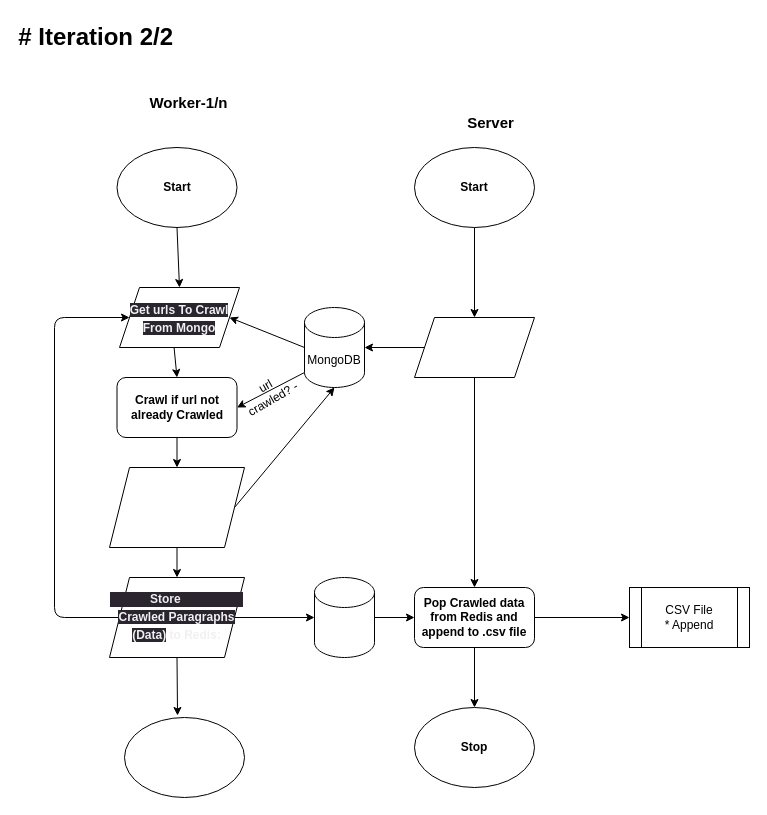
Image size: 767x815. Some labels were removed from this diagram. The centre of each missing label's shape, as x and y in pixels:
Redis: [344,617]
Stop if mongo returns no more urls to crawl: [184,757]
Store Seed urls To Crawl in mongo: [474,347]
Store to Mongo: * url_to_crawl * url_crawled * url_crawling: [176,507]
